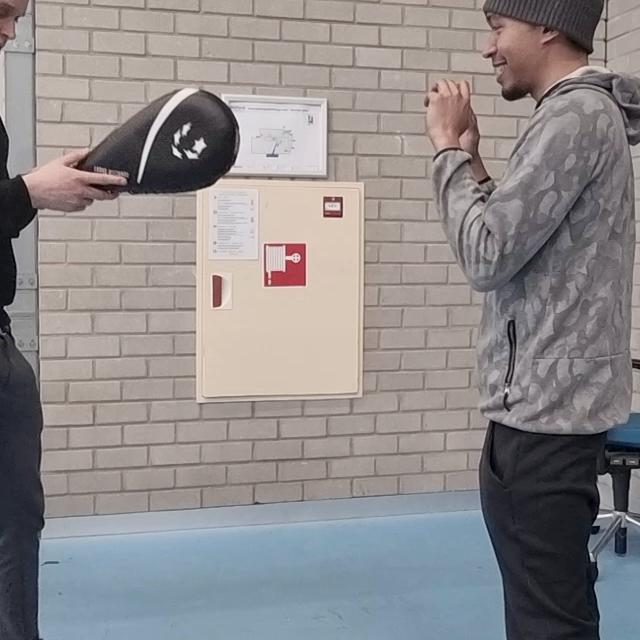paddle: (68, 88, 238, 196)
